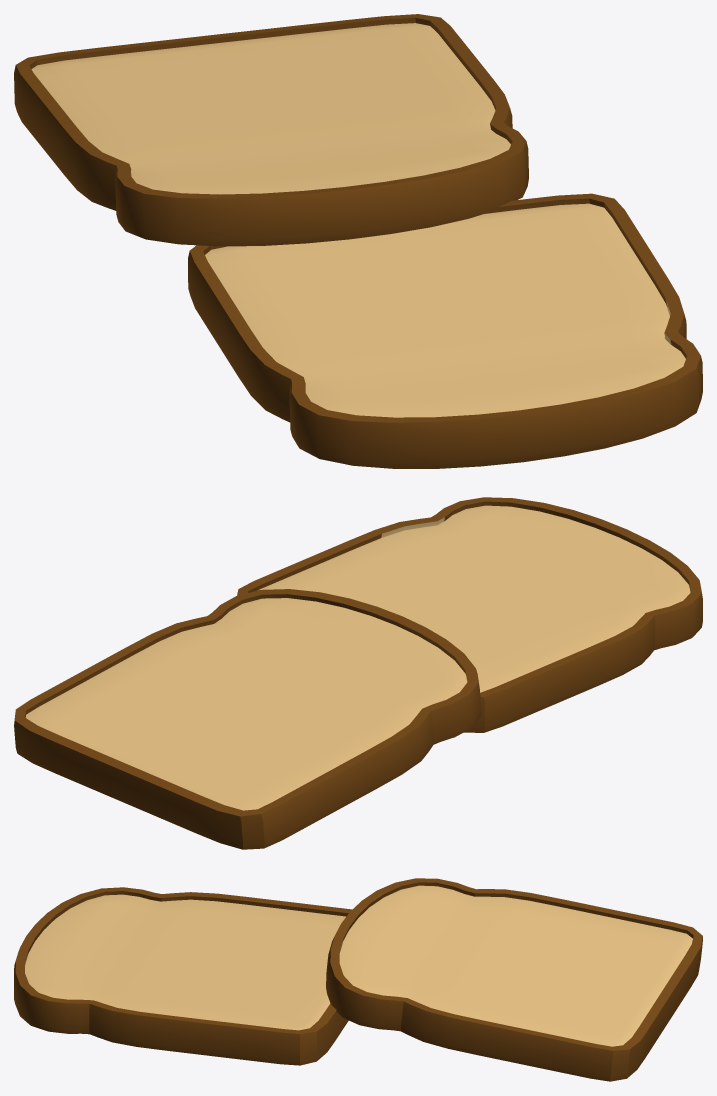
The model's file is Pane 2 fette .fbx.
The picture shows the model from 3 angles, top to bottom: view 1: azimuth 30°, elevation 25°; view 2: azimuth 150°, elevation 25°; view 3: azimuth 270°, elevation 25°; orthographic projection. The views are drawn at different scales.
Visible parts, largest first — view 1: Slice 2.001, Slice 1.001; view 2: Slice 1.001, Slice 2.001; view 3: Slice 1.001, Slice 2.001.
Part boxes in pixels (left/top/right/bottom): Slice 2.001: left=188, top=193, right=702, bottom=468; Slice 1.001: left=14, top=14, right=528, bottom=246; Slice 1.001: left=14, top=589, right=481, bottom=849; Slice 2.001: left=237, top=497, right=702, bottom=732; Slice 1.001: left=326, top=878, right=702, bottom=1081; Slice 2.001: left=14, top=887, right=352, bottom=1065.
Bounding box in the file's own units: 41.21 × 7.47 × 71.34.
